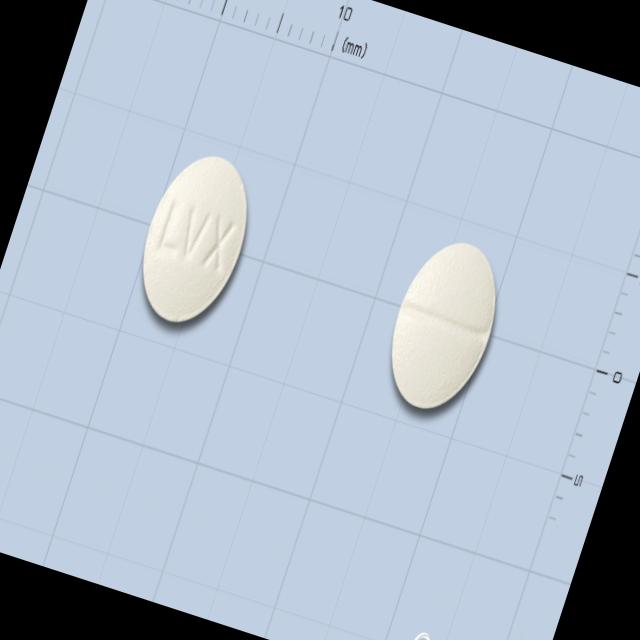Revloxin Tab: (122, 140, 268, 337)
